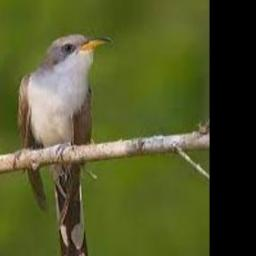Cuckoo: (19, 35, 113, 256)
